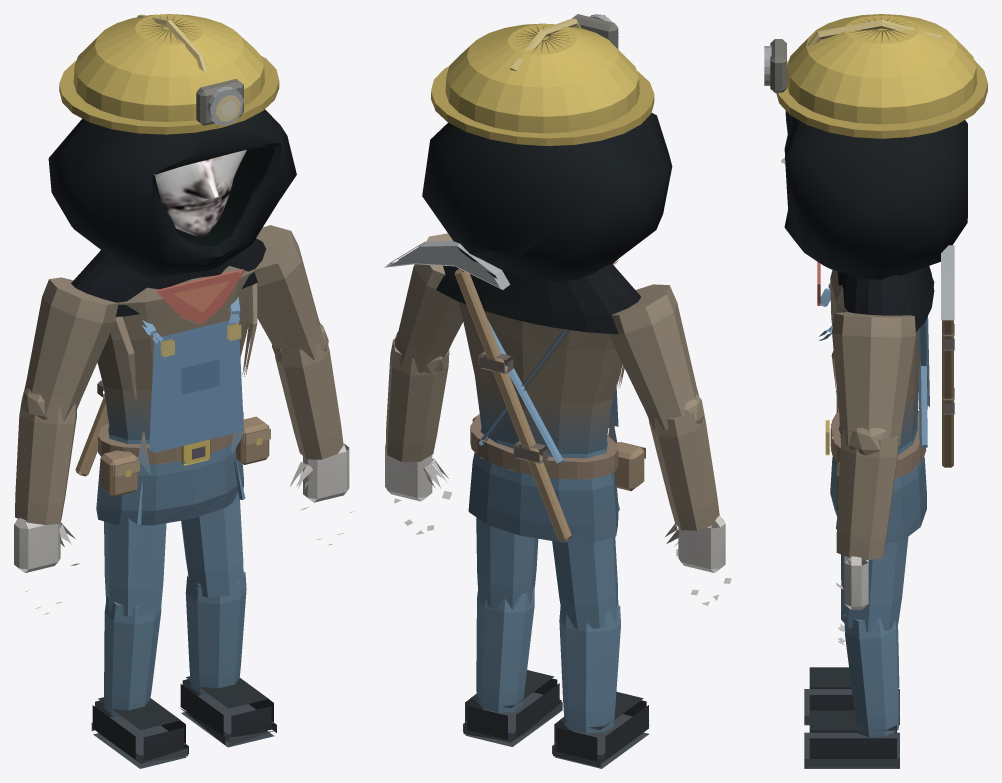
The model's file is HoodedStrangerMiner.glb.
3 views of the same model, side by side, from view 1: azimuth 30°, elevation 25°; view 2: azimuth 150°, elevation 25°; view 3: azimuth 270°, elevation 25° (orthographic).
Visible parts, largest first — view 1: Head, Body, ArmR, LegR, LegL, ArmL, HeadFace; view 2: Head, Body, ArmR, LegR, LegL, ArmL; view 3: Head, ArmL, LegL, Body, LegR.
Boxes of the visible parts, x1,y1,x2,y2 form: Head: (48,14,296,316); Body: (75,266,270,525); ArmR: (14,277,118,614); LegR: (91,518,188,768); LegL: (180,492,276,747); ArmL: (254,225,353,545); HeadFace: (153,149,246,237); Head: (422,14,672,334); Body: (385,241,645,542); ArmR: (608,284,731,605); LegR: (552,537,650,768); LegL: (463,517,562,746); ArmL: (385,233,463,534); Head: (764,14,987,331); ArmL: (832,312,915,645); LegL: (804,537,908,768); Body: (817,245,954,543); LegR: (804,554,899,725).
Bounding box in the file's own units: 3.7 × 7.5 × 2.17.
Materials: 2 (1 with a texture image).
